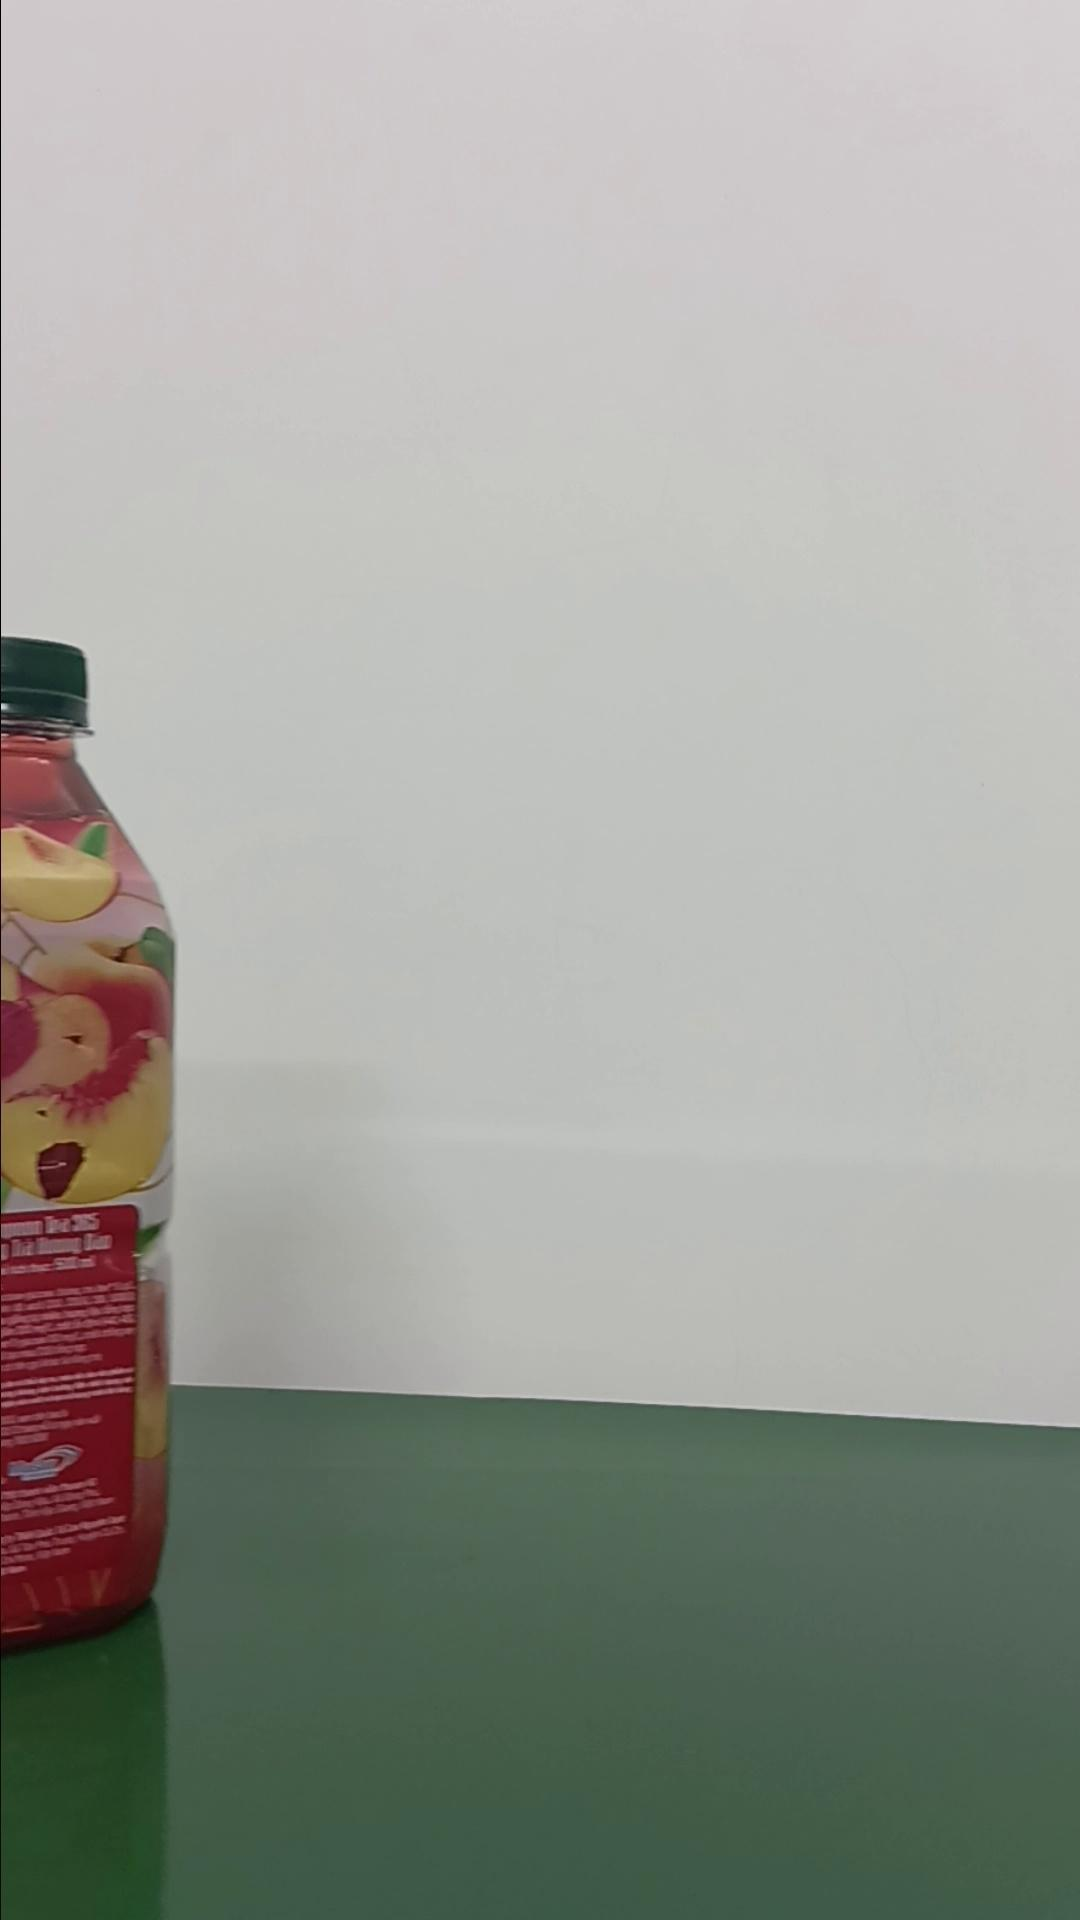loi rach va lap chai: (0, 640, 183, 1640)
